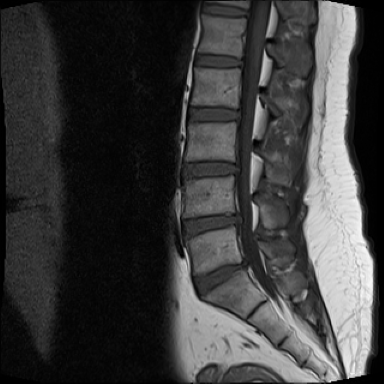Lumbar Disc Bulge (LDB): (186, 245, 257, 303), (175, 200, 249, 243), (175, 154, 245, 189), (182, 95, 249, 130)
Normal IVD: (188, 50, 244, 71), (195, 2, 251, 18)
Spinal Stenosis (SS): (219, 199, 251, 238), (218, 152, 251, 187), (229, 248, 260, 285)
